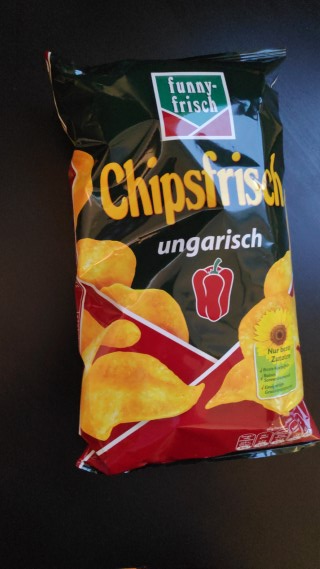chipsfrisch: (43, 44, 320, 480)
